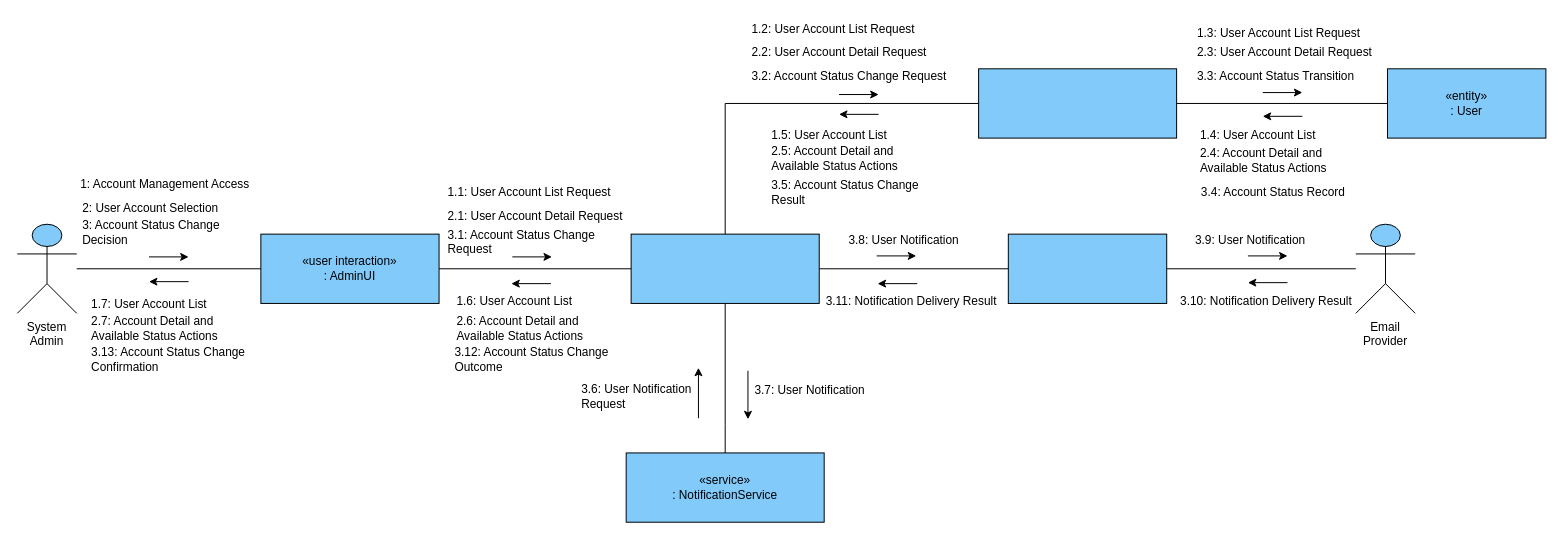
Some shapes in this 1563 by 540 pixel diagram are drawn without their labels. Here are the shapes that lost their labels. From the top down, the box of each, then its label:
(978, 68, 1177, 138): «business logic» : UserManagementLogic
(630, 233, 819, 303): «coordinator» : AdminCoordinator
(1007, 233, 1167, 303): «proxy» : EmailProxy
